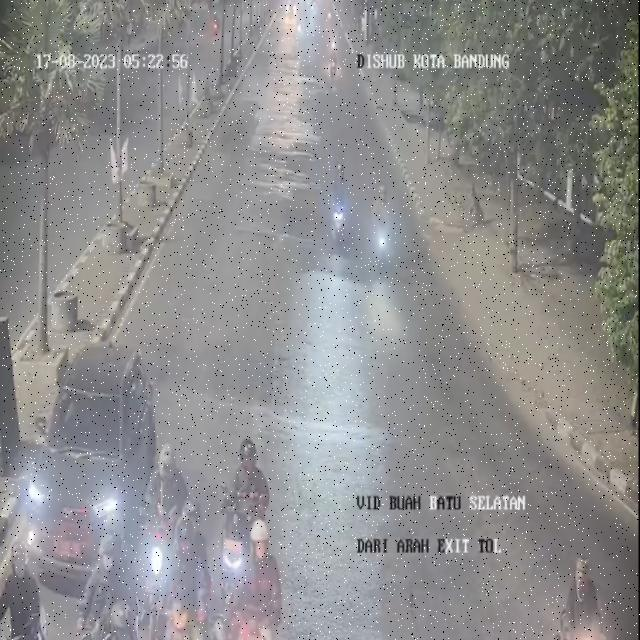cars: (31, 338, 155, 578)
motorcycle: (128, 436, 193, 622), (215, 436, 280, 602), (223, 518, 286, 640), (80, 513, 134, 624), (163, 498, 211, 607), (325, 150, 357, 278), (0, 536, 36, 638), (163, 576, 210, 640), (368, 172, 391, 263)
